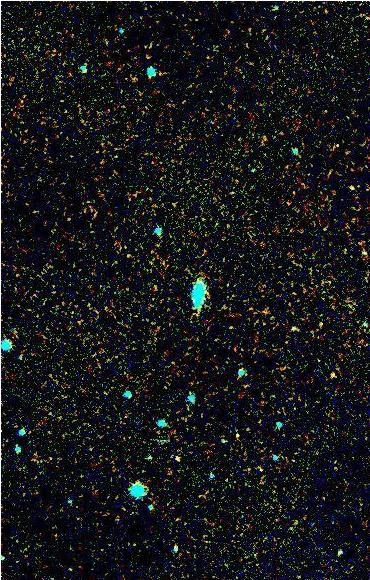star: (316, 360, 346, 390)
